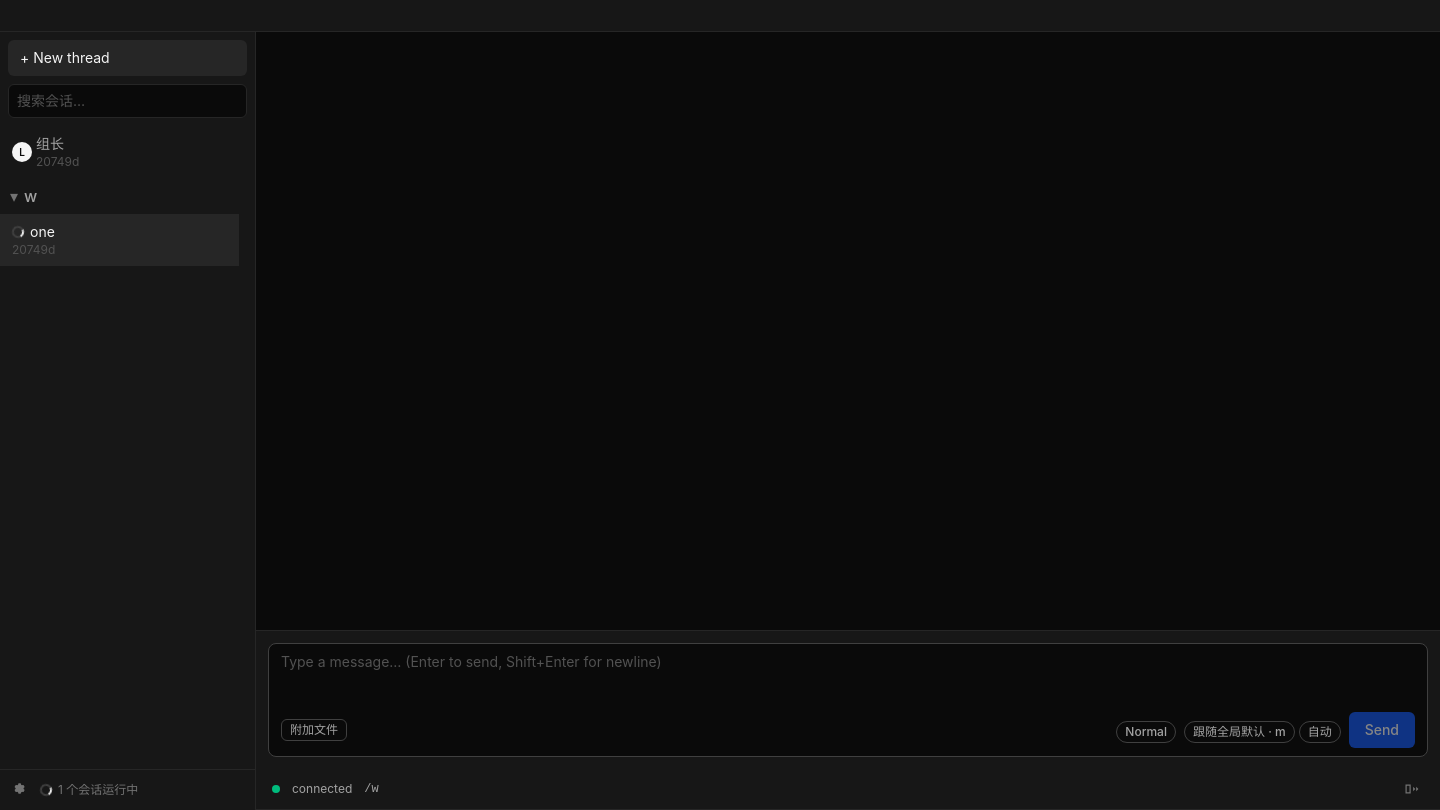
Scenario: App send recovery from a status disagreement › falls back to turn/start when turn/interject answers -32013
In the text box: (848, 678) left=269, top=644, right=1427, bottom=712, type "late message"
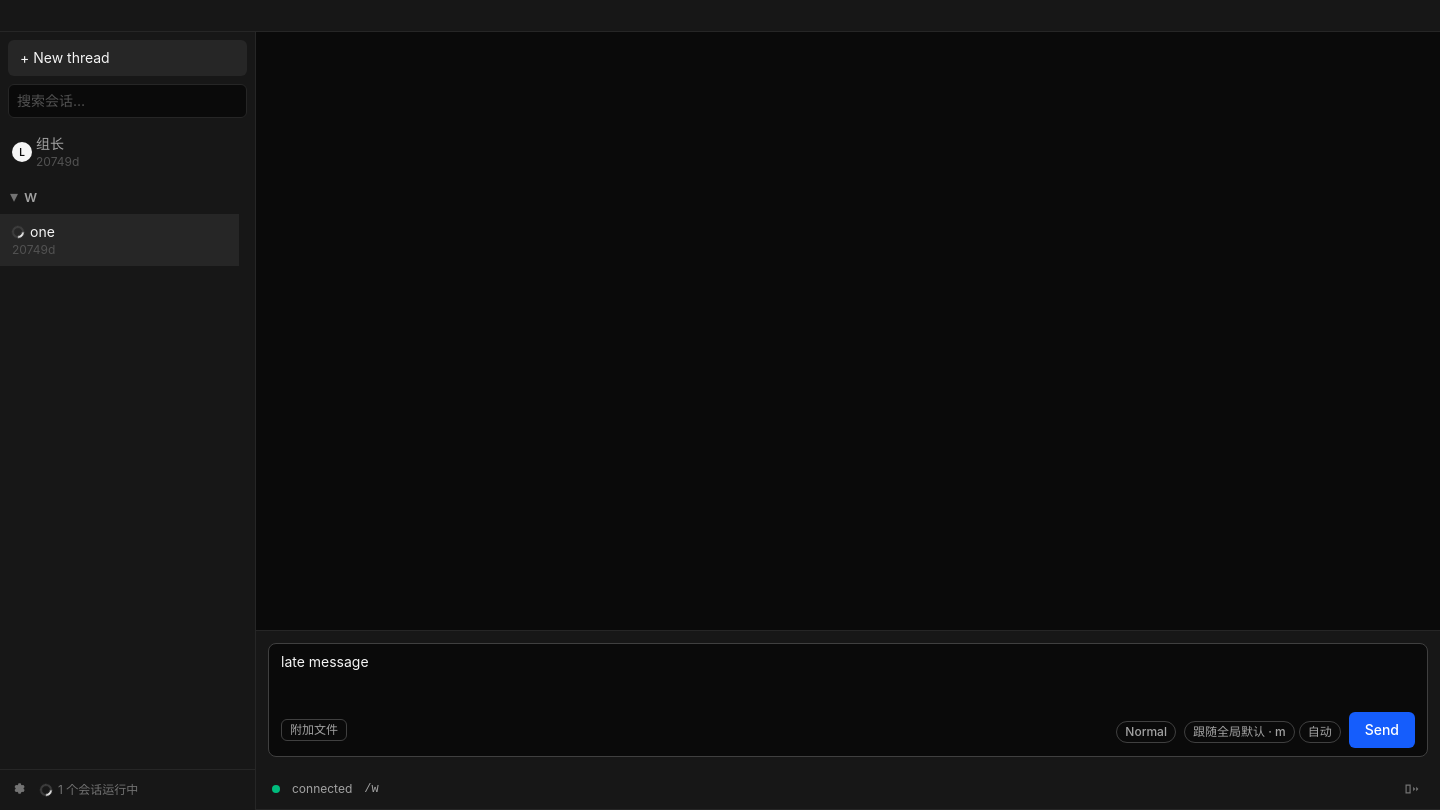
Click the button "Send": (1382, 730) left=1349, top=712, right=1415, bottom=748
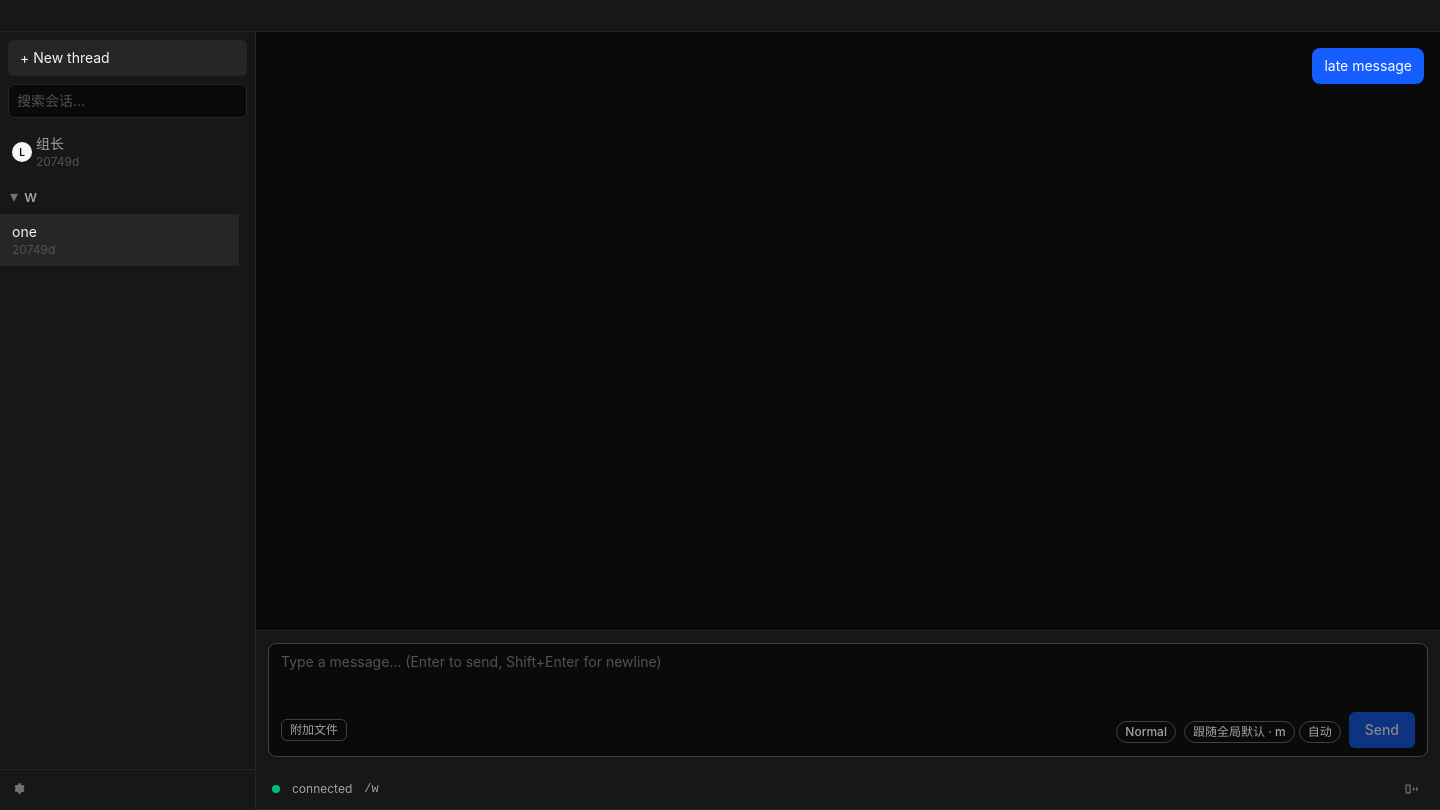
Expected: the picture "no turn is running" is gone
